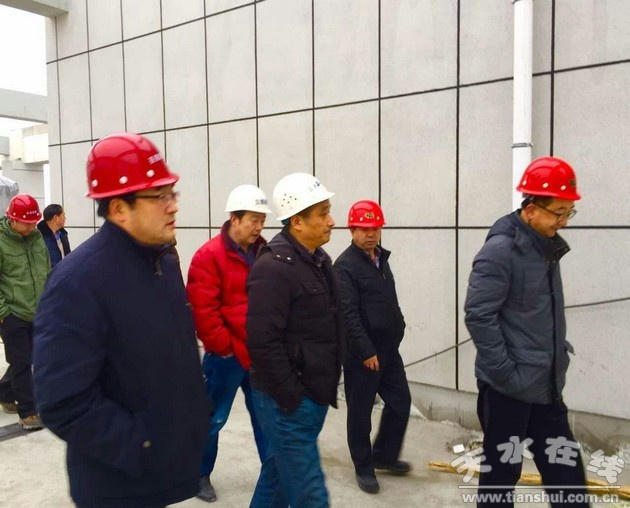none: (42, 203, 68, 232)
red: (91, 133, 183, 250), (514, 156, 582, 231), (344, 200, 387, 249), (4, 191, 41, 235)
white: (274, 171, 333, 243), (223, 181, 267, 242)
